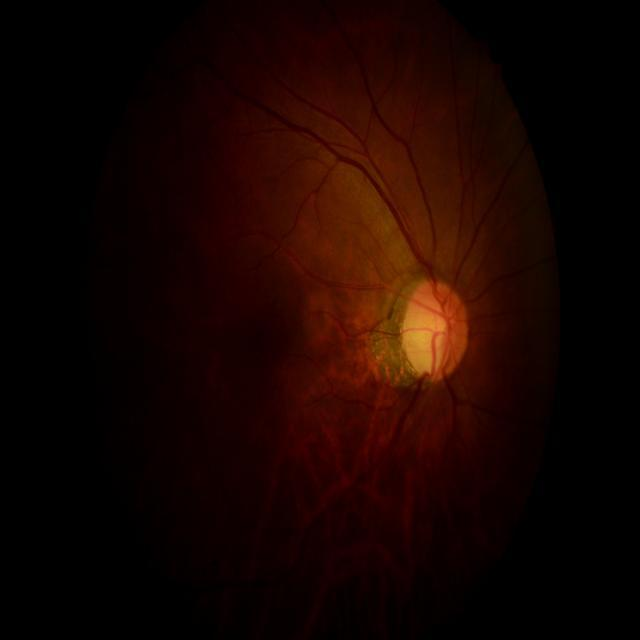cup: (410, 296, 452, 374)
disk: (402, 279, 468, 381)
